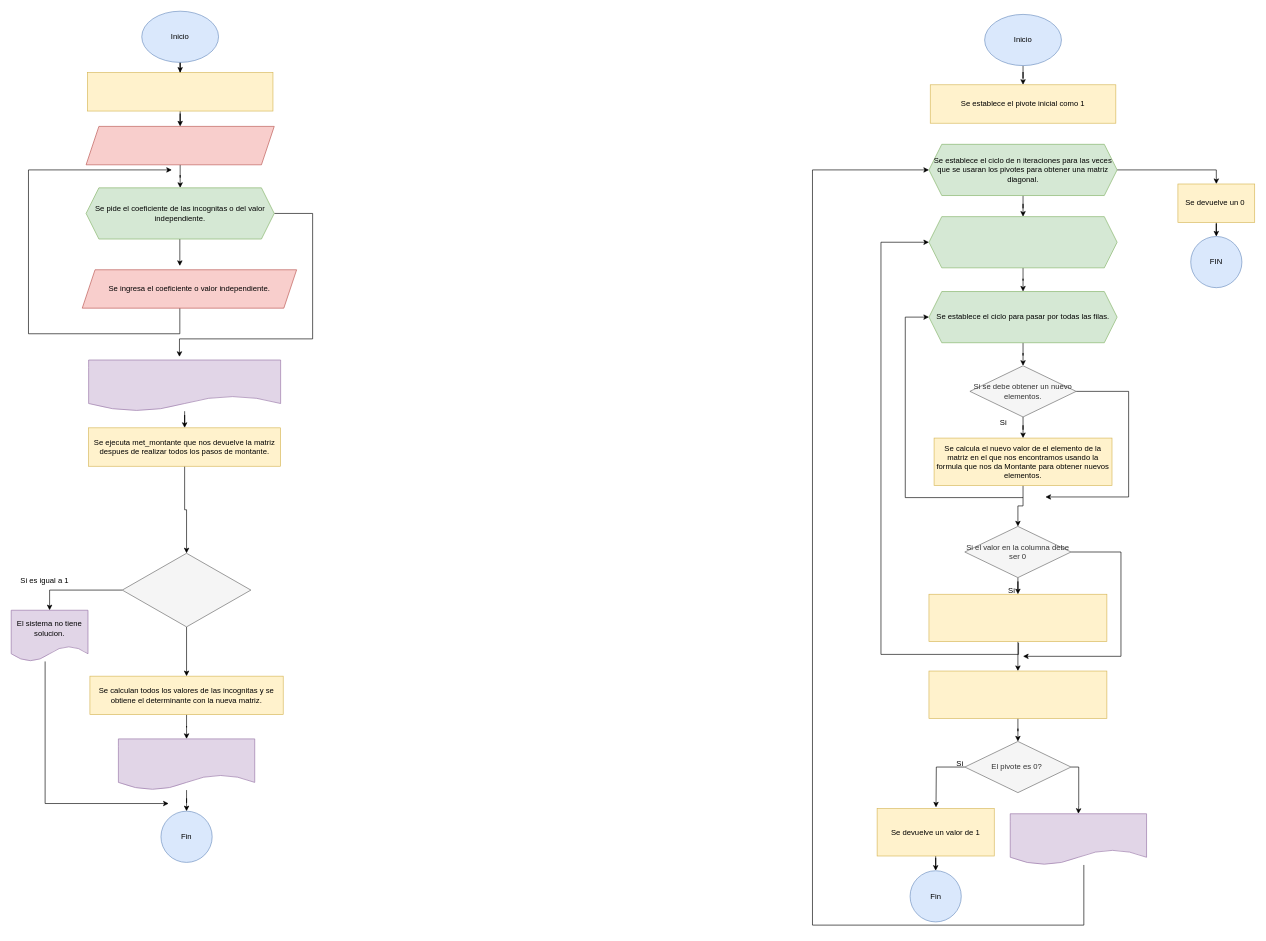
The diagram is 1266 pixels wide and 941 high, and some of its shapes have lost their labels. Here are the shapes that lost their labels. From the top down, the centre of each, then its label:
At pixel 180 91: "Se pide el tamaño de la matriz(N)".
At pixel 179 145: "Se ingresa N".
At pixel 1022 242: "Se establece el ciclo para pasar por todas las columas.".
At pixel 184 385: "Imprimos la matriz que ingreso el usuario.".
At pixel 186 590: "Se evalua lo obtenido de la funcion. y se comprueba si es igual a 1".
At pixel 1017 618: "Se hace el valor 0".
At pixel 1017 694: "Se obtiene el nuevo pivote.".
At pixel 186 764: "Se imprimen los resultados.".
At pixel 1078 839: "Se imprime el paso actual de la matriz.".
